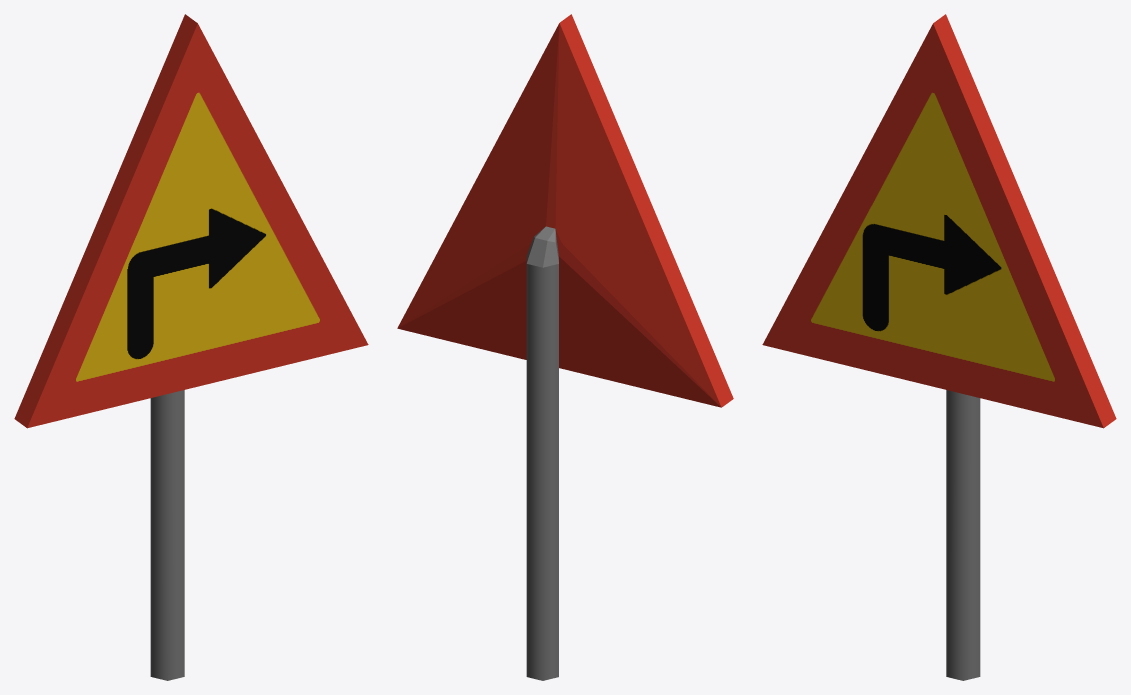
The model's file is traffic sign.FBX.
3 renders of one model, left to right at view 1: azimuth 30°, elevation 25°; view 2: azimuth 150°, elevation 25°; view 3: azimuth 330°, elevation 25°, orthographic. The views are drawn at different scales.
Visible parts, largest first — view 1: Object005; view 2: Object005; view 3: Object005.
Part boxes in pixels (x1,y1,x2,y2): Object005: [14, 14, 368, 680]; Object005: [397, 14, 733, 680]; Object005: [762, 14, 1116, 680].
Size of the model in its own units: 15.92 by 29.91 by 3.13.
Materials: 1 (1 with a texture image).
